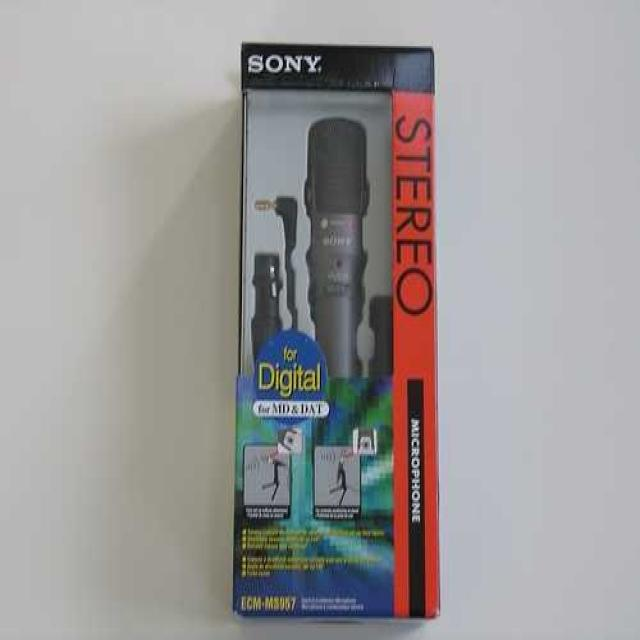microphone: (304, 118, 371, 385)
